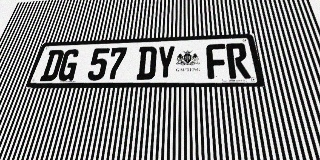5: (86, 48, 110, 81)
7: (105, 47, 127, 80)
D: (39, 50, 65, 81), (136, 46, 157, 80)
F: (206, 44, 229, 79)
G: (56, 49, 81, 81)
R: (226, 43, 251, 79)
Y: (155, 45, 175, 80)
